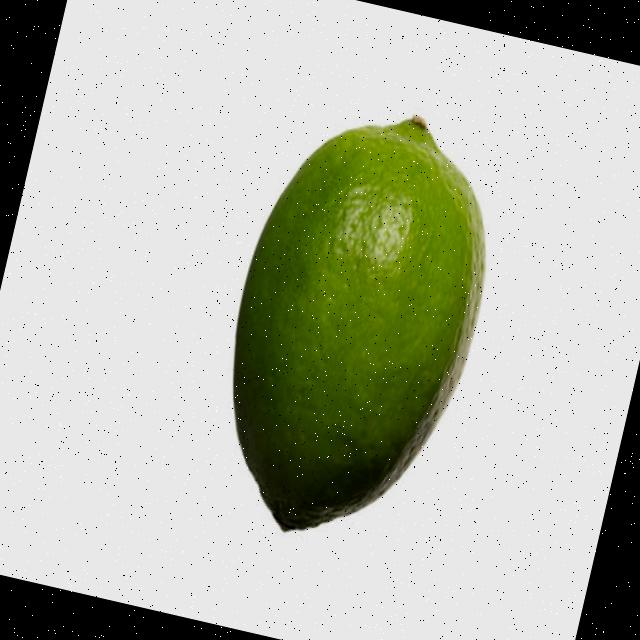Unripe: (186, 88, 522, 571)
